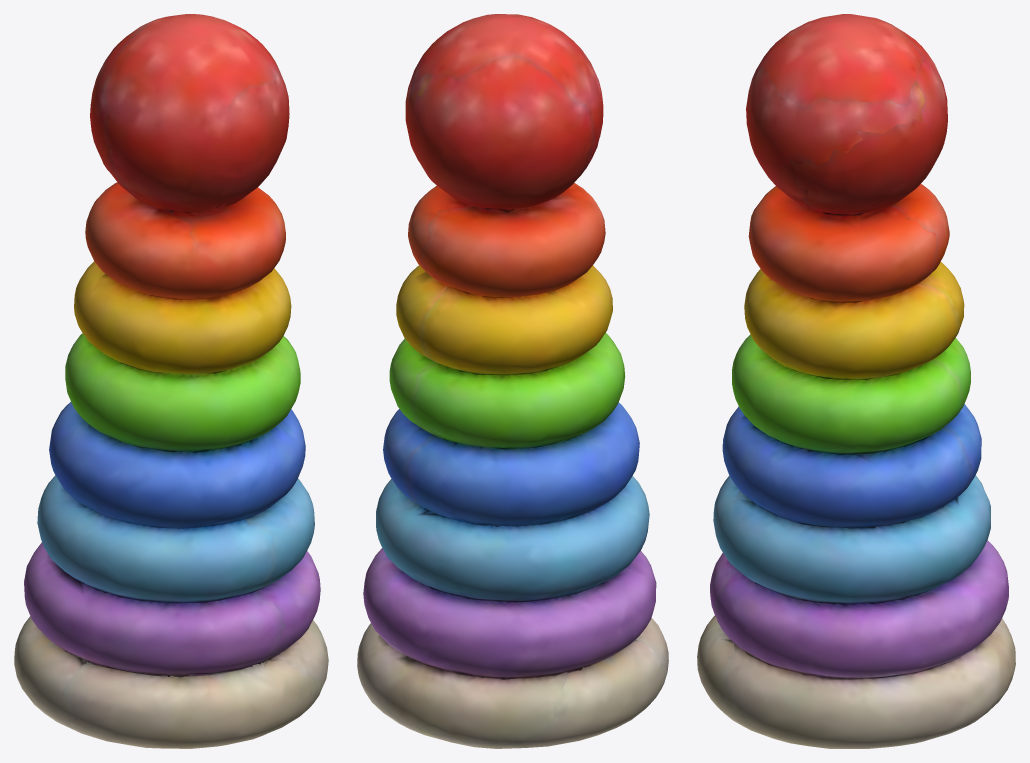
Rendered from STACKING_RING-high.glb.
3 views of the same model, side by side, from view 1: azimuth 30°, elevation 25°; view 2: azimuth 150°, elevation 25°; view 3: azimuth 270°, elevation 25° (orthographic).
Parts seen in each view (by area): view 1: STACKING_RING; view 2: STACKING_RING; view 3: STACKING_RING.
Part boxes in pixels (left/top/right/bottom): STACKING_RING: left=14, top=14, right=328, bottom=748; STACKING_RING: left=357, top=14, right=668, bottom=748; STACKING_RING: left=697, top=14, right=1015, bottom=748.
Size of the model in its own units: 0.0791 by 0.1873 by 0.0798.
1 material, 1 textured.
